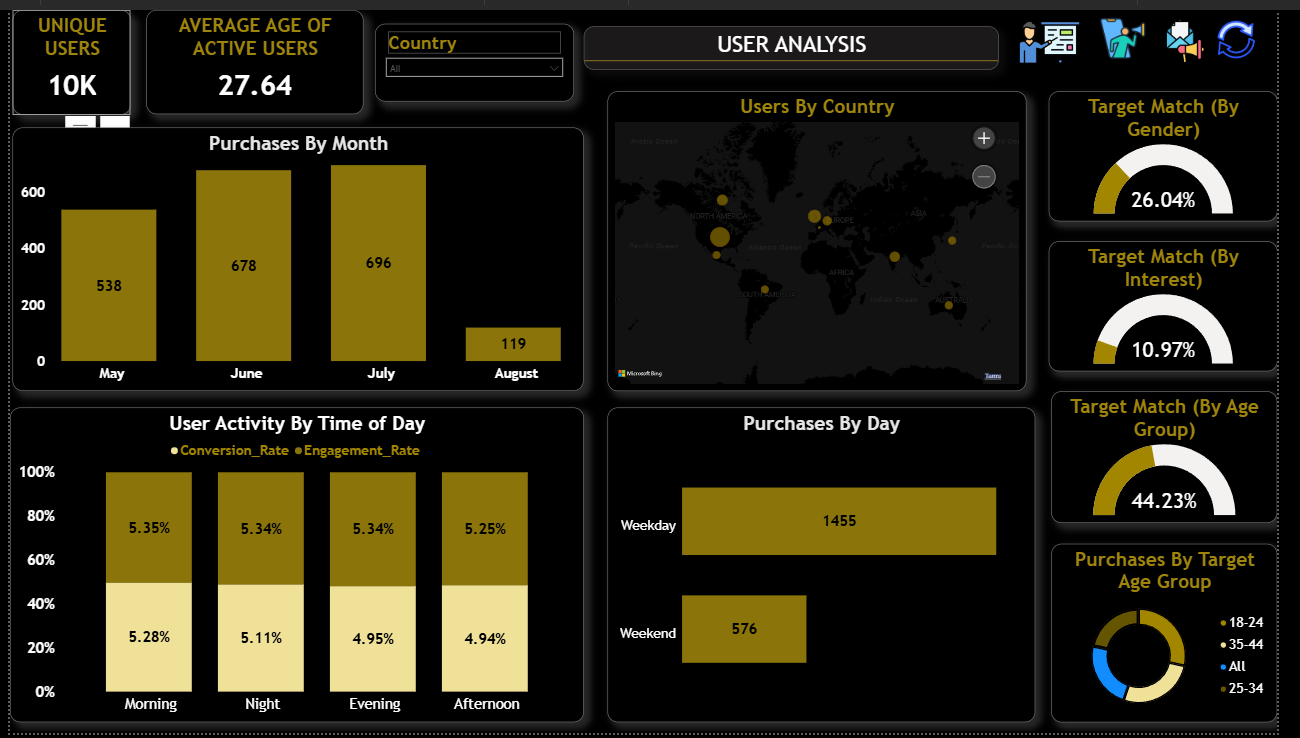

The page's visual inventory and layout, read from the dashboard file:
{"tool":"powerbi","page":{"name":"User Analysis1","canvas":[1840,1050],"ordinal":4},"visuals":[{"type":"cardVisual","title":"AVERAGE AGE OF ACTIVE USERS","fields":{"Data":["Measure Table.Avg Age of Purchasers"]},"box":[197,0,315.2,151.4],"z":0},{"type":"cardVisual","title":"UNIQUE USERS","fields":{"Data":["Measure Table.Unique Users"]},"box":[3.6,0,172.3,152.4],"z":1000},{"type":"textbox","title":"USER ANALYSIS","box":[832.7,23.6,602.3,63.5],"z":2000},{"type":"image","box":[1752.5,4.1,54.4,78],"z":3000},{"type":"image","box":[1667.2,10.9,85.6,67.8],"z":4000},{"type":"image","box":[1576.5,3.6,76.7,74.9],"z":5000},{"type":"image","box":[1456.7,10.9,103.4,70.8],"z":6000},{"type":"barChart","title":"Purchases By Day","fields":{"Category":["ad_events.Is_Weekday"],"Y":["Measure Table.Tot_Purchases"]},"box":[867.1,576.9,620.4,457.2],"z":8000},{"type":"gauge","title":"Target Match (By Gender)","fields":{"Y":["Measure Table.Targeting Match Rate"]},"box":[1507.5,117.9,332,188.7],"z":9000},{"type":"hundredPercentStackedColumnChart","title":"User Activity By Time of Day","fields":{"Category":["ad_events.time_of_day"],"Y":["Measure Table.Conversion_Rate","Measure Table.Engagement_Rate"]},"box":[0,576.9,832.7,457.2],"z":10000},{"type":"columnChart","title":"Purchases By Month","fields":{"Y":["Measure Table.Tot_Purchases"],"Category":["DateTable.DateNew.Variation.Date Hierarchy.Month"]},"box":[3.6,170.5,829,382.8],"z":11000},{"type":"map","title":"Users By Country","fields":{"Category":["users.country"],"Size":["Measure Table.Tot_Purchases"]},"box":[867.1,117.9,607.7,435.4],"z":12000},{"type":"donutChart","title":"Purchases By Target Age Group","fields":{"Y":["Measure Table.Tot_Purchases"],"Category":["ads.target_age_group"]},"box":[1511.2,774.6,328.4,259.4],"z":13000},{"type":"gauge","title":"Target Match (By Interest)","fields":{"Y":["Measure Table.Targeting Match Rate_Interest"]},"box":[1507.5,335.6,331.8,188.7],"z":14000},{"type":"gauge","title":"Target Match (By Age Group)","fields":{"Y":["Measure Table.Targeting Match Rate_Age"]},"box":[1511.2,553.3,327.7,190.8],"z":15000},{"type":"slicer","fields":{"Values":["users.country"]},"box":[529.7,20,288.4,112.5],"z":16000}]}

Visuals, with their boxes in screenshot pixels (x1, y1, x2, y2), scaled from the page's 1840x1050 canvas onto the 1300x738 screenshot:
"AVERAGE AGE OF ACTIVE USERS" cardVisual: x1=139 y1=0 x2=362 y2=106
"UNIQUE USERS" cardVisual: x1=3 y1=0 x2=124 y2=107
"USER ANALYSIS" textbox: x1=588 y1=17 x2=1014 y2=61
image: x1=1238 y1=3 x2=1277 y2=58
image: x1=1178 y1=8 x2=1238 y2=55
image: x1=1114 y1=3 x2=1168 y2=55
image: x1=1029 y1=8 x2=1102 y2=57
"Purchases By Day" barChart: x1=613 y1=405 x2=1051 y2=727
"Target Match (By Gender)" gauge: x1=1065 y1=83 x2=1299 y2=215
"User Activity By Time of Day" hundredPercentStackedColumnChart: x1=0 y1=405 x2=588 y2=727
"Purchases By Month" columnChart: x1=3 y1=120 x2=588 y2=389
"Users By Country" map: x1=613 y1=83 x2=1042 y2=389
"Purchases By Target Age Group" donutChart: x1=1068 y1=544 x2=1299 y2=727
"Target Match (By Interest)" gauge: x1=1065 y1=236 x2=1299 y2=369
"Target Match (By Age Group)" gauge: x1=1068 y1=389 x2=1299 y2=523
slicer - users.country: x1=374 y1=14 x2=578 y2=93
